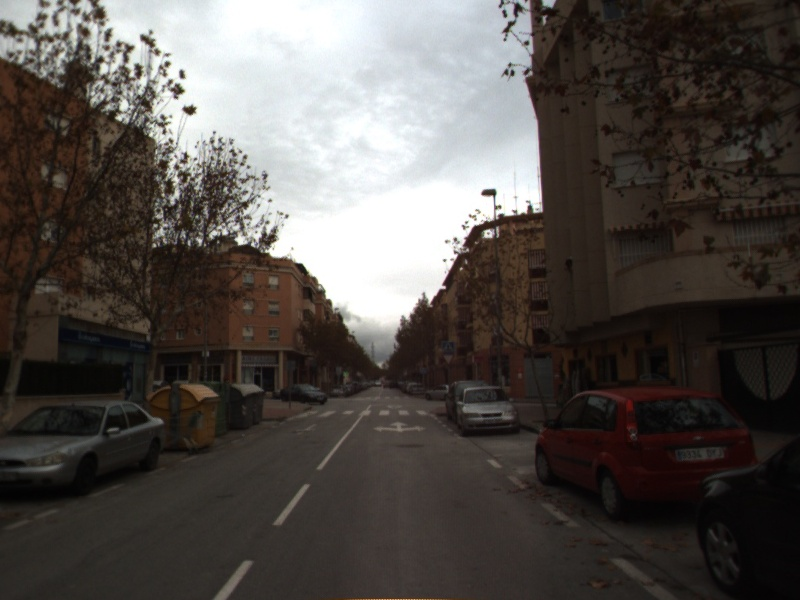STRAIGHT_LEFT_RIGHT: (371, 418, 428, 435)
